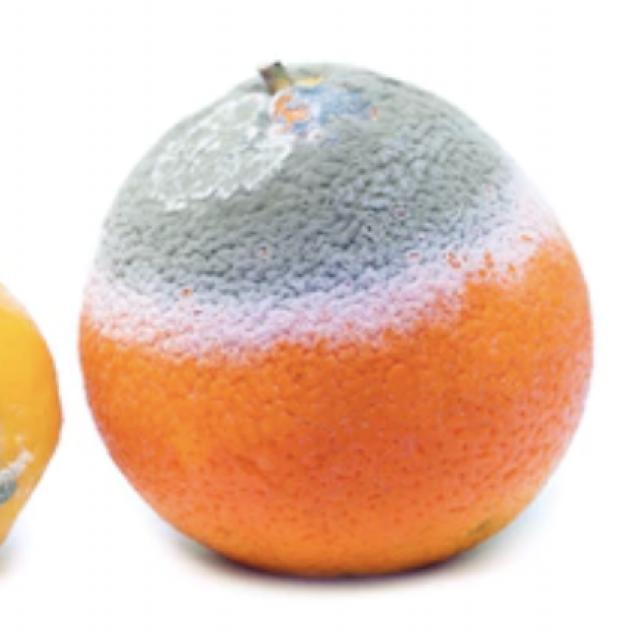rotten-orange: (79, 58, 596, 579)
